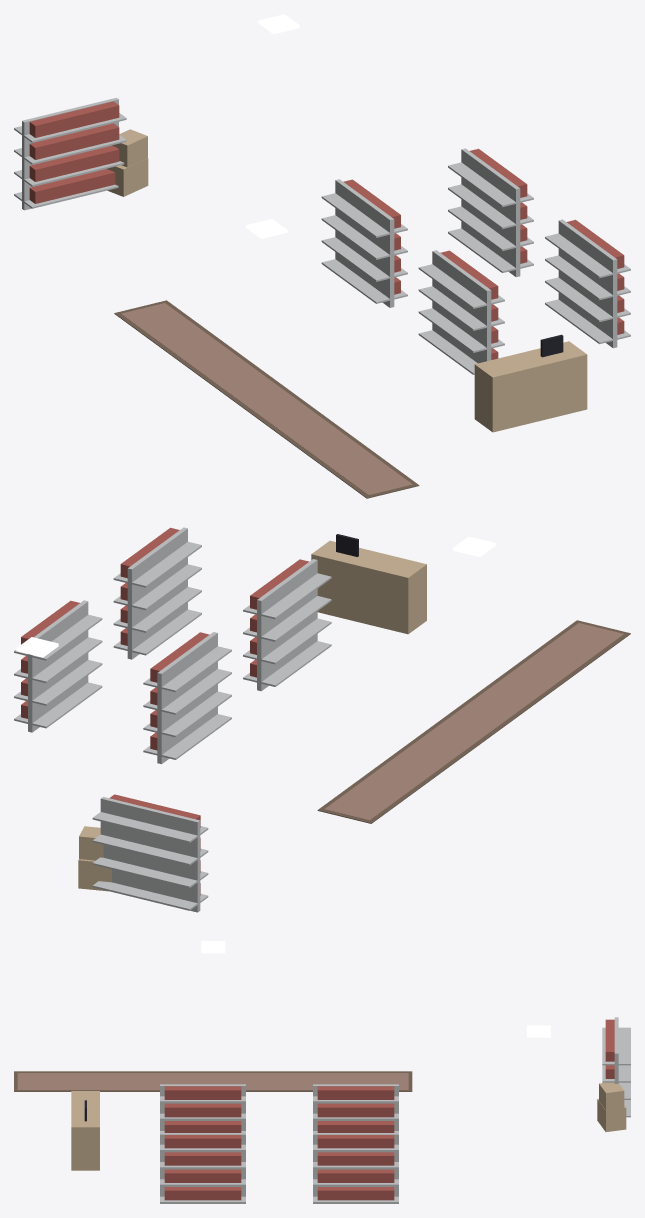
File: fine-s0.glb
3 views of the same model, one above another, from view 1: azimuth 30°, elevation 25°; view 2: azimuth 150°, elevation 25°; view 3: azimuth 270°, elevation 25° (orthographic). The views are drawn at different scales.
Visible parts, largest first — view 1: soft-s0, shelving.000, shop-counter.000, shelf.003, shelf.002, shelf.000, shelf.001, cardboard-box.000; view 2: soft-s0, shelving.000, shop-counter.000, shelf.000, shelf.003, shelf.001, shelf.002, cardboard-box.000, ceiling-lamp.001, ceiling-lamp.000; view 3: soft-s0, shelf.002, shelf.003, shelf.000, shelf.001, shop-counter.000, shelving.000, cardboard-box.000.
Part boxes in pixels (<box>): soft-s0: <box>114,300,419,498</box>; shelving.000: <box>14,97,126,210</box>; shop-counter.000: <box>474,334,587,432</box>; shelf.003: <box>545,219,630,348</box>; shelf.002: <box>448,148,533,277</box>; shelf.000: <box>321,179,407,307</box>; shelf.001: <box>418,250,504,374</box>; cardboard-box.000: <box>107,129,148,196</box>; soft-s0: <box>317,620,630,823</box>; shelving.000: <box>92,794,208,912</box>; shop-counter.000: <box>311,534,426,634</box>; shelf.000: <box>143,632,231,764</box>; shelf.003: <box>113,527,201,659</box>; shelf.001: <box>243,559,331,691</box>; shelf.002: <box>14,600,102,732</box>; cardboard-box.000: <box>78,826,111,891</box>; ceiling-lamp.001: <box>16,637,58,657</box>; ceiling-lamp.000: <box>453,536,495,556</box>; soft-s0: <box>14,1071,412,1091</box>; shelf.002: <box>313,1133,398,1203</box>; shelf.003: <box>160,1133,245,1203</box>; shelf.000: <box>313,1084,398,1132</box>; shelf.001: <box>160,1084,245,1132</box>; shop-counter.000: <box>71,1091,99,1170</box>; shelving.000: <box>602,1017,630,1117</box>; cardboard-box.000: <box>597,1082,626,1131</box>.
Size of the model in its own units: 6.79 by 3.14 by 12.9.
